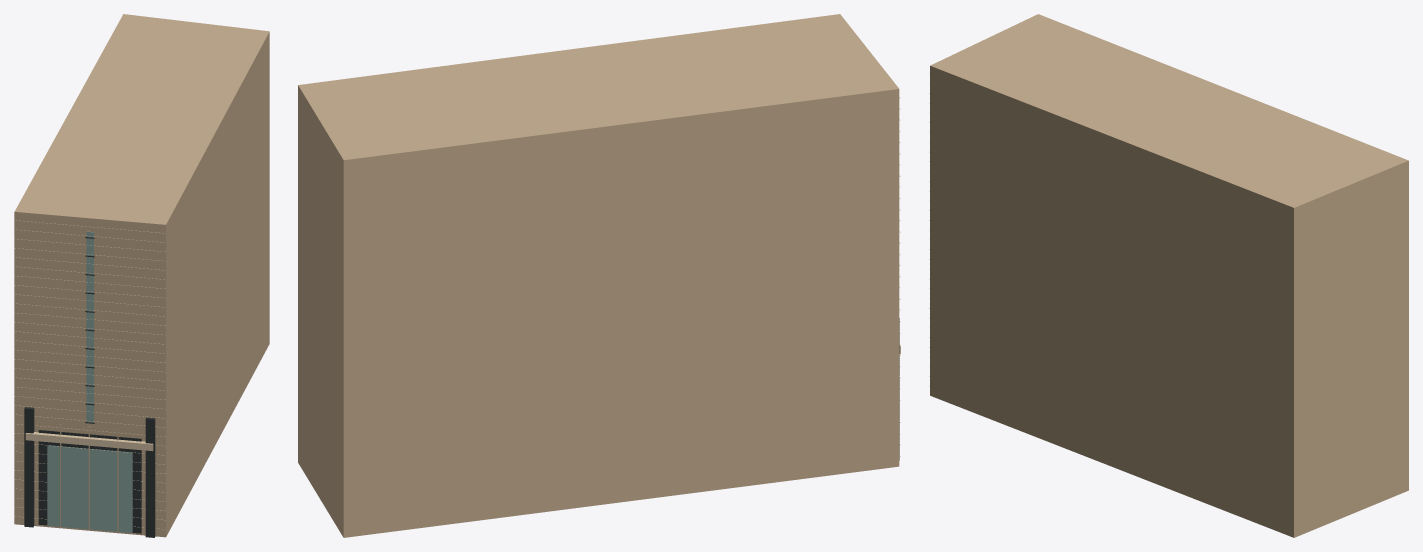
3 views of the same model, side by side, from view 1: azimuth 30°, elevation 25°; view 2: azimuth 150°, elevation 25°; view 3: azimuth 270°, elevation 25° (orthographic). The views are drawn at different scales.
Visible parts, largest first — view 1: 193478726_stone, 193478726_opaque glazing, 193478726_frames, 193478726_accent; view 2: 193478726_stone; view 3: 193478726_stone.
Part boxes in pixels (x1,y1,x2,y2): 193478726_stone: (14,14,269,537); 193478726_opaque glazing: (47,231,132,532); 193478726_frames: (24,237,155,537); 193478726_accent: (14,220,165,529); 193478726_stone: (298,14,899,537); 193478726_stone: (930,14,1408,537).
Size of the model in its own units: 38.39 by 30.4 by 40.06.
